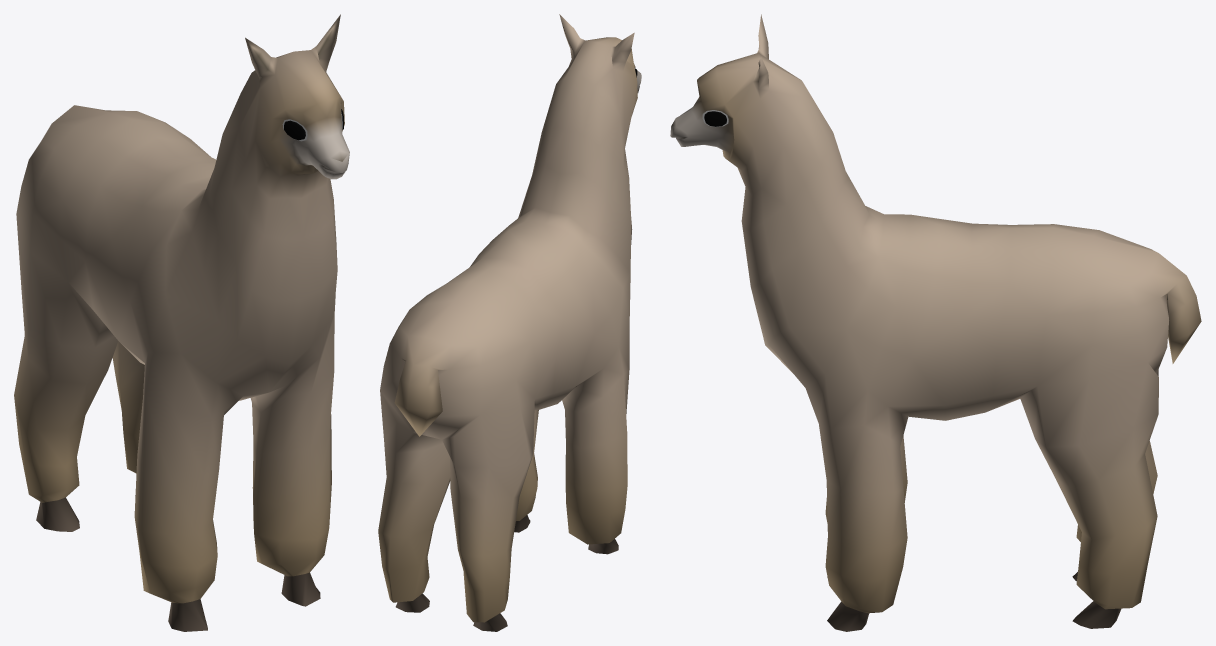
The picture shows the model from 3 angles, left to right: view 1: azimuth 30°, elevation 25°; view 2: azimuth 150°, elevation 25°; view 3: azimuth 270°, elevation 25°; orthographic projection. The views are drawn at different scales.
Parts seen in each view (by area): view 1: base.043; view 2: base.043; view 3: base.043.
Part boxes in pixels (bbox=[...]): base.043: bbox=[14, 14, 349, 631]; base.043: bbox=[378, 14, 641, 631]; base.043: bbox=[670, 14, 1201, 631].
Size of the model in its own units: 0.163 by 0.5 by 0.427.
